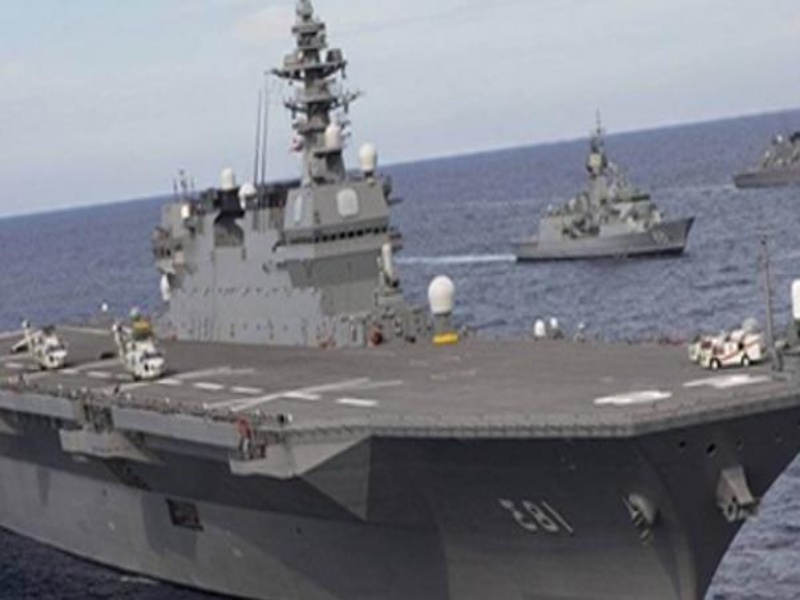carrier: (12, 172, 793, 594)
cruise: (519, 138, 691, 264), (735, 126, 798, 188)
